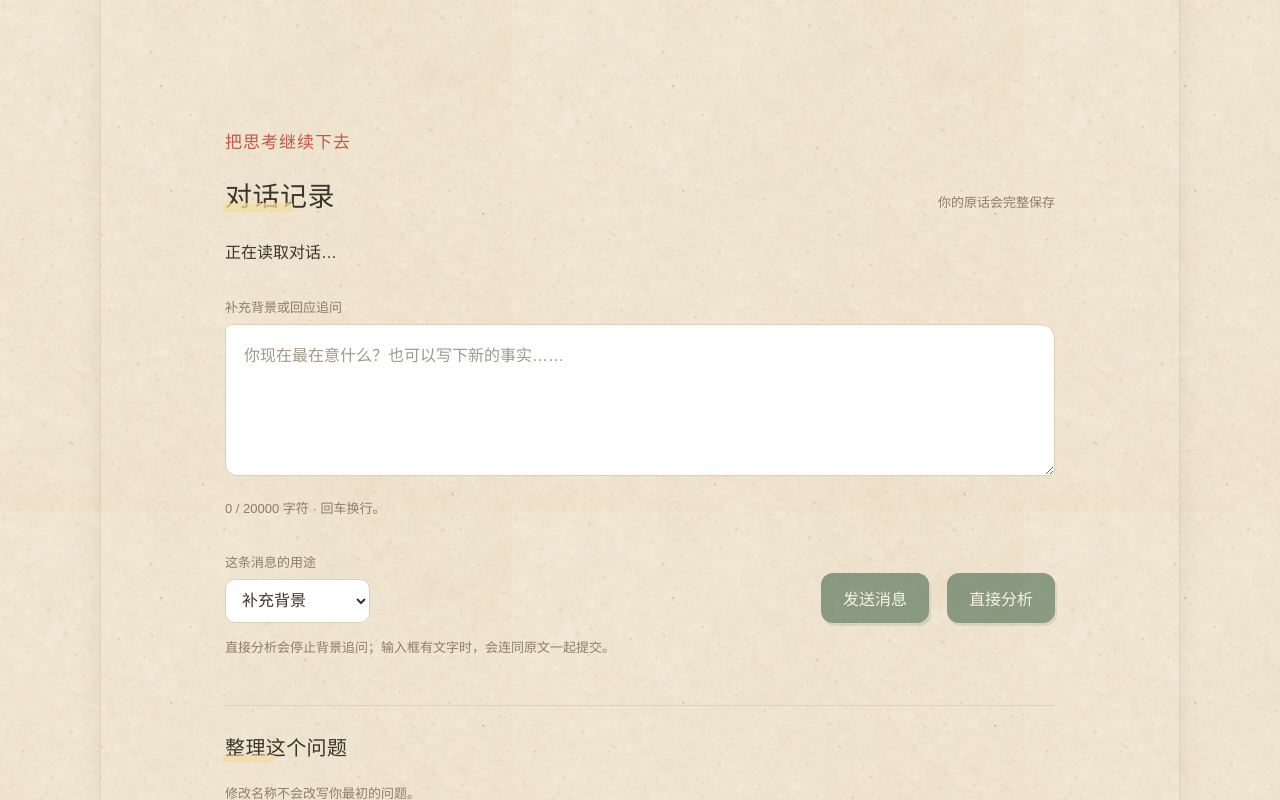
Test: 409保留草稿，手动读取修订后才允许显式重发
(page scrolled)
In the text box labelled "补充背景或回应追问": (640, 400) [225,324,1055,476], type "冲突草稿"
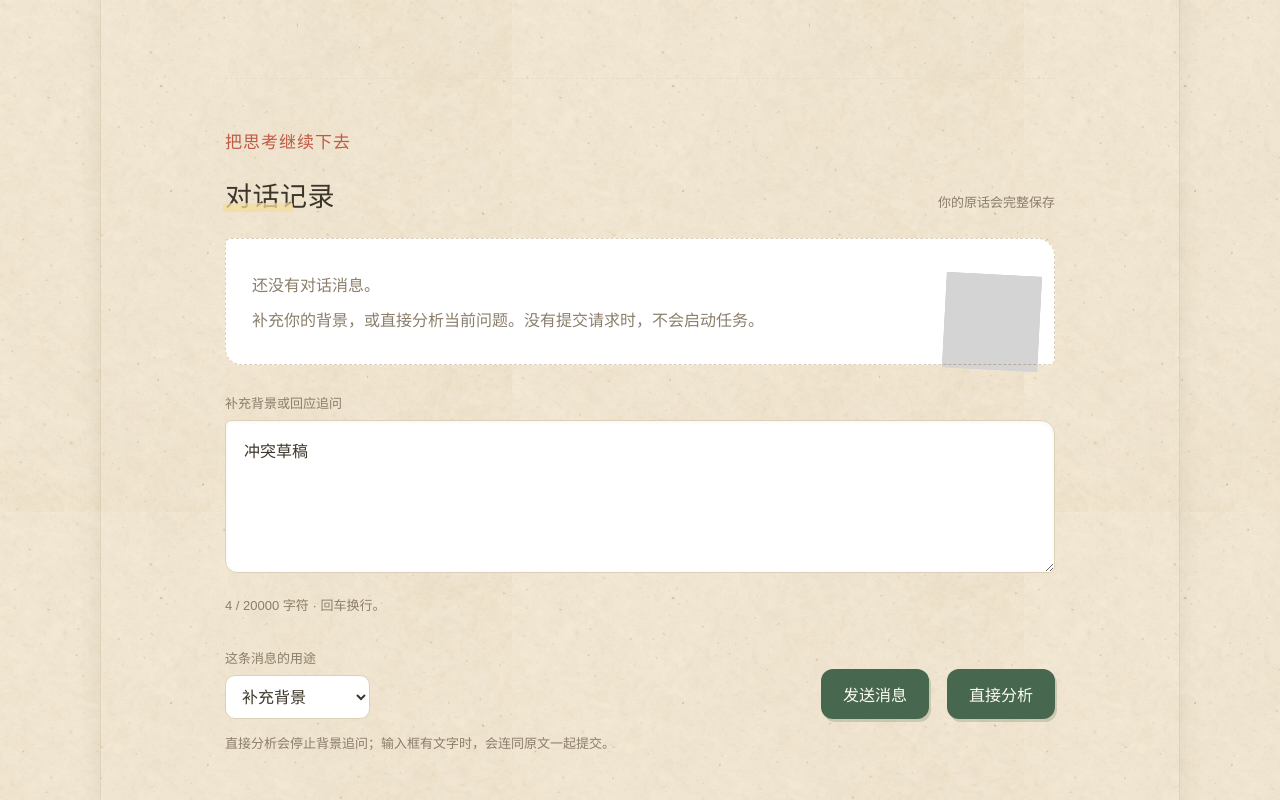
Click the button "发送消息": click(875, 694) [821,669,929,719]
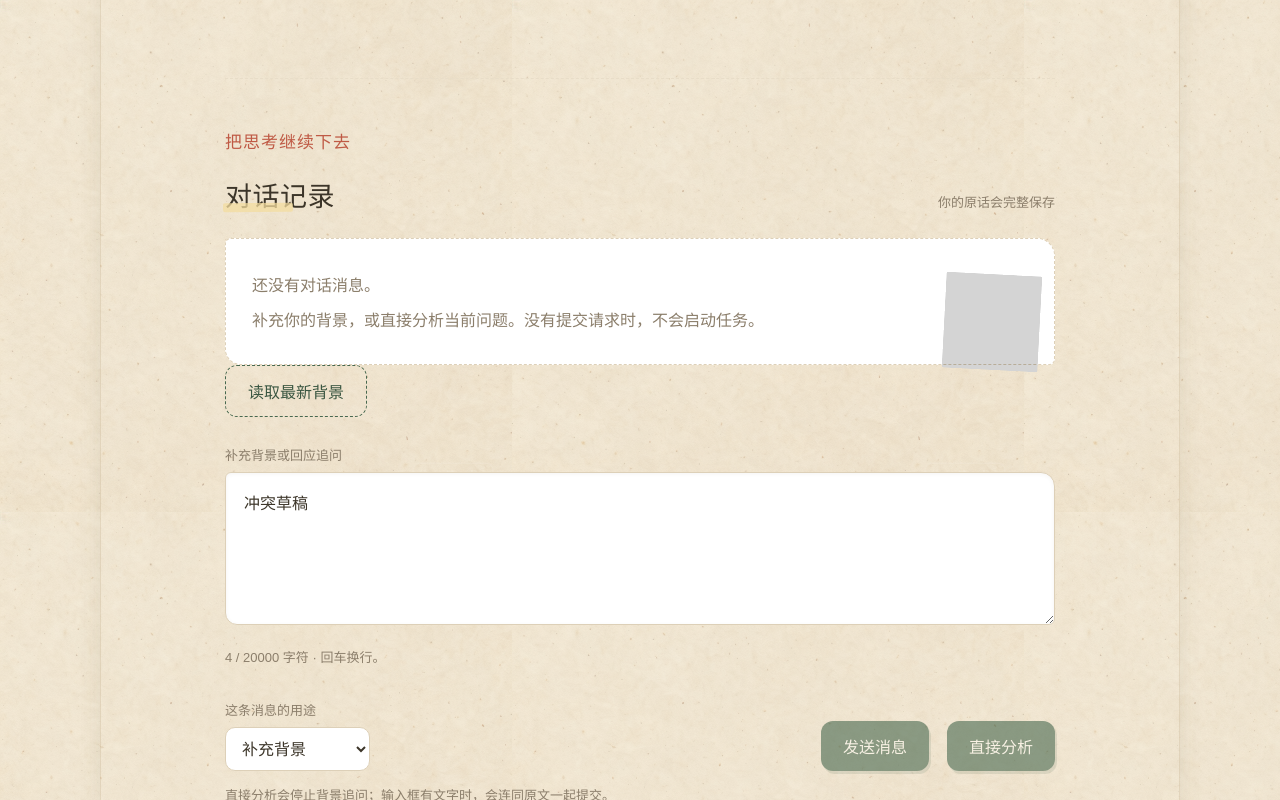
Check: the button "发送消息" is disabled, box [821,721,929,771]
Click the button "读取最新背景": click(296, 391) [225,365,367,417]
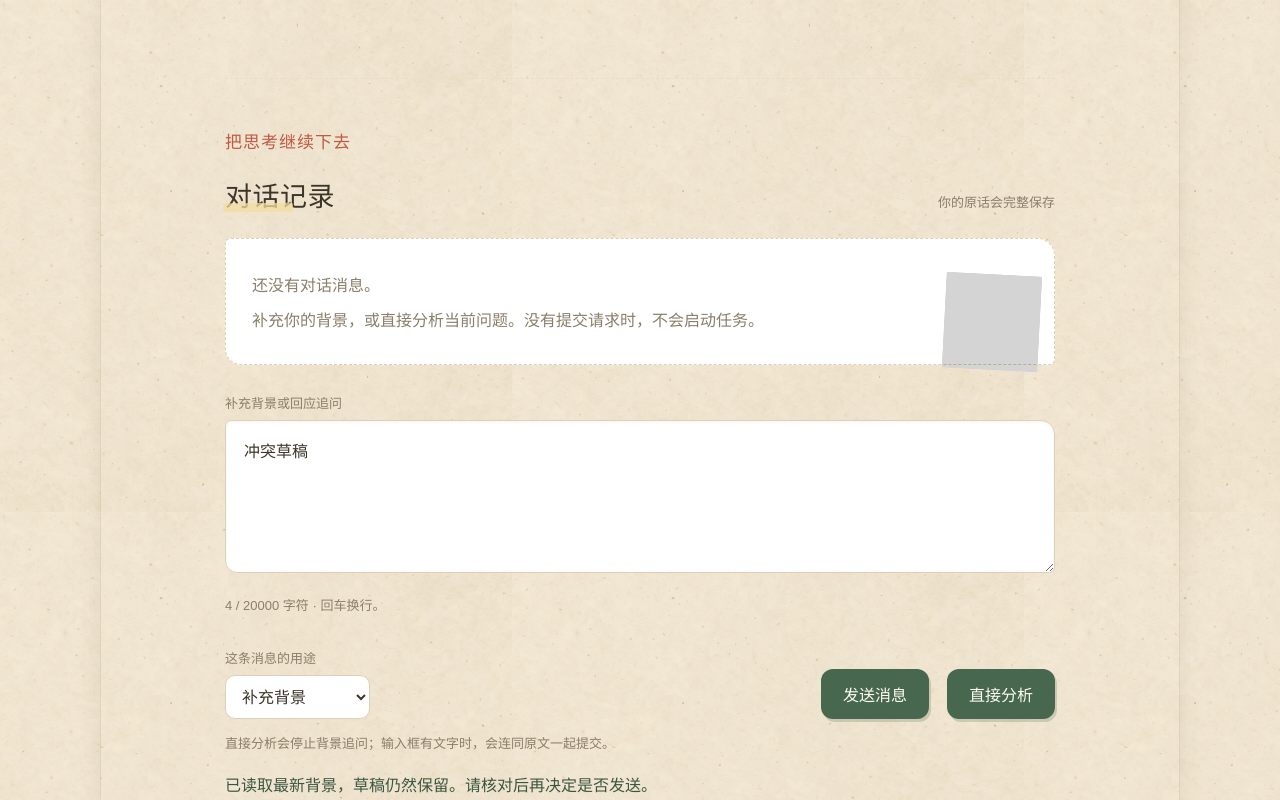
Check: the button "发送消息" is enabled
Click the button "发送消息": click(875, 694) [821,669,929,719]
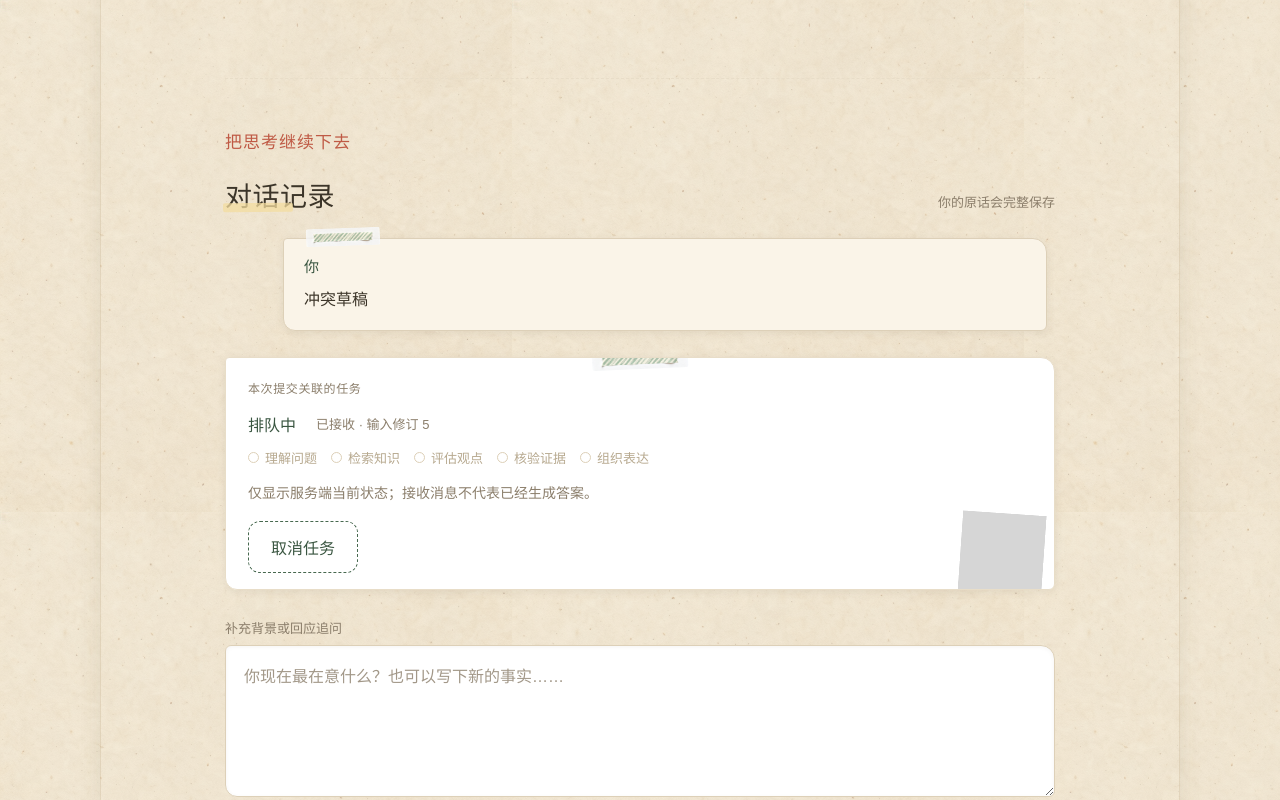
Check: the text "排队中" is shown, box [248,412,296,436]
